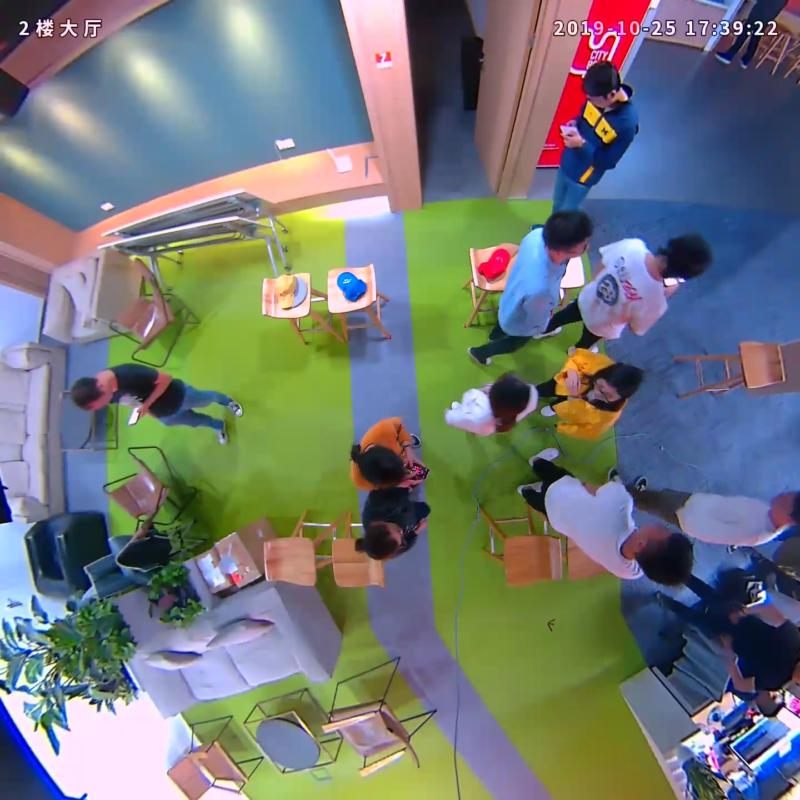head: (635, 520, 694, 587), (543, 210, 593, 258), (660, 235, 712, 279), (355, 444, 406, 488), (592, 361, 643, 404), (488, 371, 529, 420), (582, 59, 620, 108), (359, 520, 403, 562), (70, 375, 112, 411), (770, 487, 800, 527)
